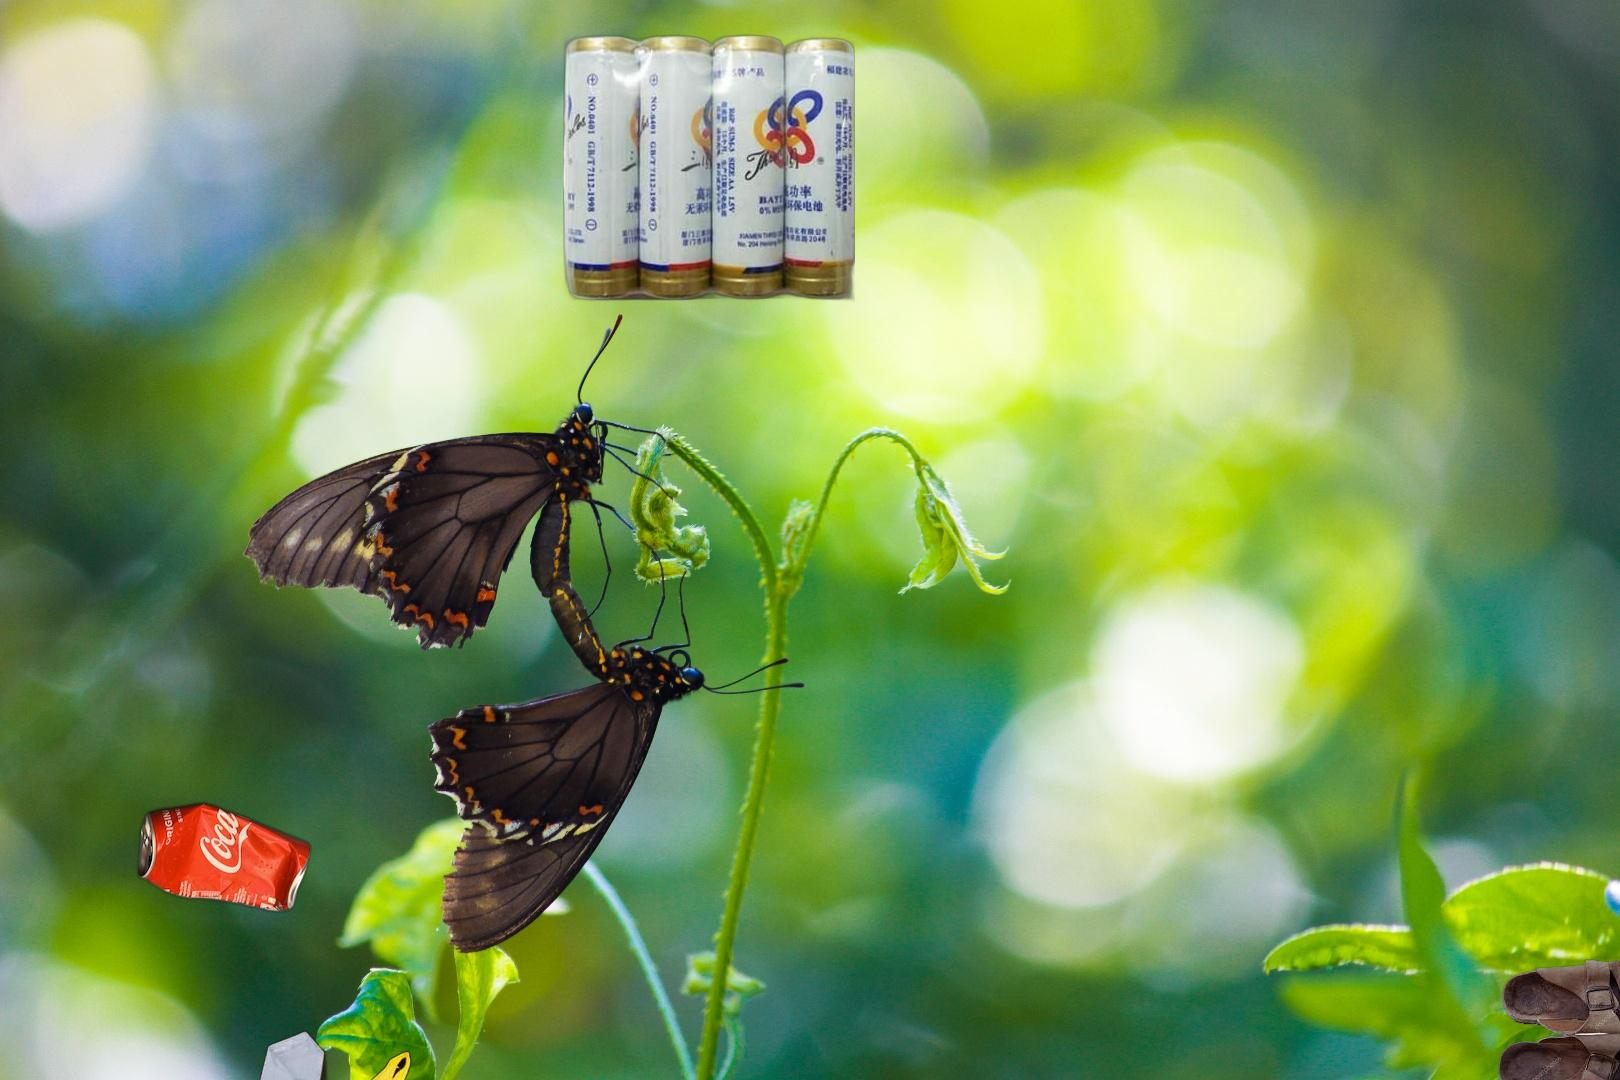battery: (563, 27, 855, 303)
metal-cans: (133, 798, 315, 918)
plastic-bag: (237, 1029, 492, 1080)
shoes: (1496, 953, 1620, 1080)
